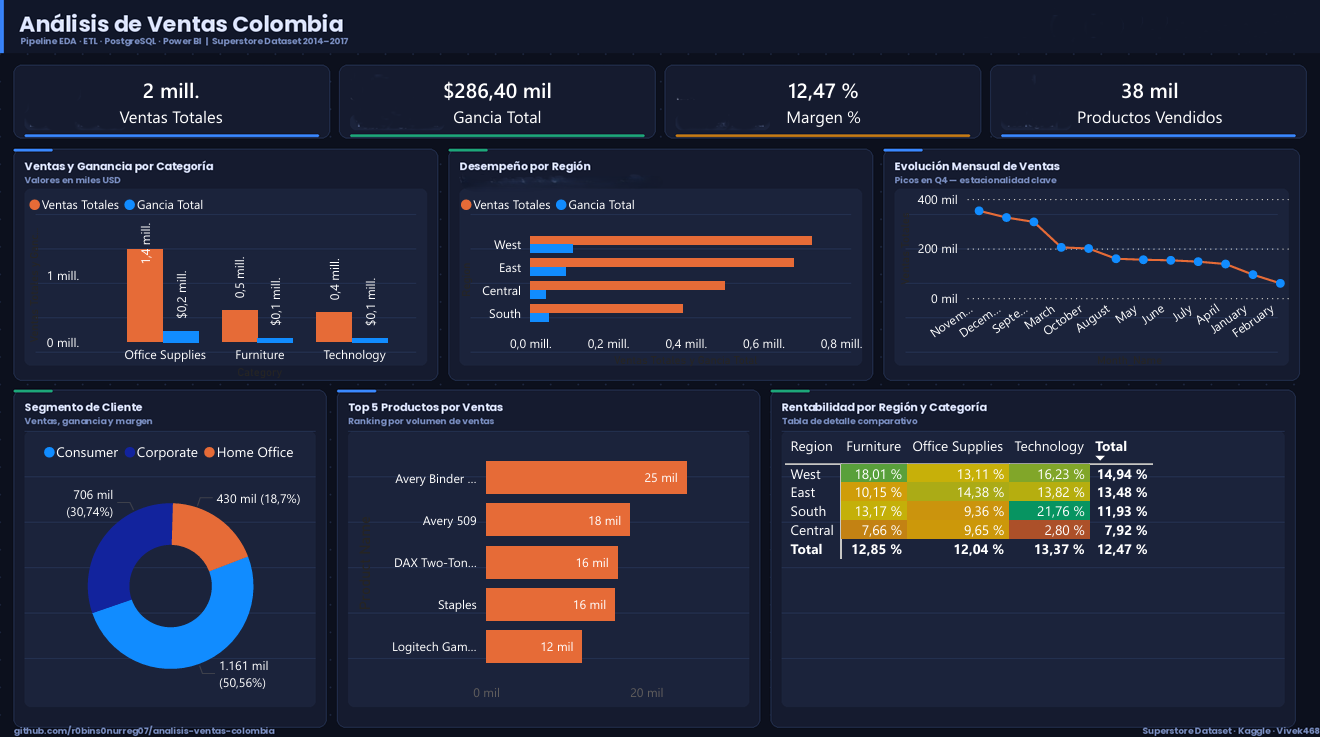

The page's visual inventory and layout, read from the dashboard file:
{"tool":"powerbi","page":{"name":"Página 1","canvas":[1280,720],"ordinal":0},"visuals":[{"type":"cardVisual","fields":{"Data":["fact_sales.Ventas Totales"]},"box":[24,54,284,86],"z":0},{"type":"cardVisual","fields":{"Data":["fact_sales.Gancia Total"]},"box":[340,54,284,86],"z":1000},{"type":"cardVisual","fields":{"Data":["fact_sales.Margen %"]},"box":[656,54,284,86],"z":2000},{"type":"cardVisual","fields":{"Data":["fact_sales.Productos Vendidos"]},"box":[972,54,284,86],"z":3000},{"type":"clusteredColumnChart","fields":{"Category":["dim_product.Category"],"Y":["fact_sales.Ventas Totales","fact_sales.Gancia Total"]},"box":[23.4,178.1,398.4,192.2],"z":4000},{"type":"clusteredBarChart","fields":{"Category":["dim_ubication.Region"],"Y":["fact_sales.Ventas Totales","fact_sales.Gancia Total"]},"box":[440.6,178.1,400,181.2],"z":5000},{"type":"lineChart","fields":{"Category":["dim_date.Month_Name"],"Y":["fact_sales.Ventas Totales"]},"box":[867.2,178.1,389.1,181.2],"z":6000},{"type":"donutChart","fields":{"Category":["dim_customer.Segment"],"Y":["fact_sales.Ventas Totales"]},"box":[23.4,417.2,284.4,270.3],"z":7000},{"type":"barChart","fields":{"Category":["dim_product.Product Name"],"Y":["fact_sales.Ventas Totales"]},"box":[340.6,417.2,385.9,270.3],"z":8000},{"type":"pivotTable","fields":{"Rows":["dim_ubication.Region"],"Columns":["dim_product.Category"],"Values":["fact_sales.Margen %"]},"box":[756.2,417.2,489.1,270.3],"z":9000}]}

Visuals, with their boxes in screenshot pixels (x1, y1, x2, y2), scaled from the page's 1280x720 canvas onto the 1320x737 screenshot:
cardVisual - fact_sales.Ventas Totales: BBox(25, 55, 318, 143)
cardVisual - fact_sales.Gancia Total: BBox(351, 55, 644, 143)
cardVisual - fact_sales.Margen %: BBox(676, 55, 969, 143)
cardVisual - fact_sales.Productos Vendidos: BBox(1002, 55, 1295, 143)
clusteredColumnChart - dim_product.Category x fact_sales.Ventas Totales: BBox(24, 182, 435, 379)
clusteredBarChart - dim_ubication.Region x fact_sales.Ventas Totales: BBox(454, 182, 867, 368)
lineChart - dim_date.Month_Name x fact_sales.Ventas Totales: BBox(894, 182, 1296, 368)
donutChart - dim_customer.Segment x fact_sales.Ventas Totales: BBox(24, 427, 317, 704)
barChart - dim_product.Product Name x fact_sales.Ventas Totales: BBox(351, 427, 749, 704)
pivotTable - dim_ubication.Region x dim_product.Category: BBox(780, 427, 1284, 704)
